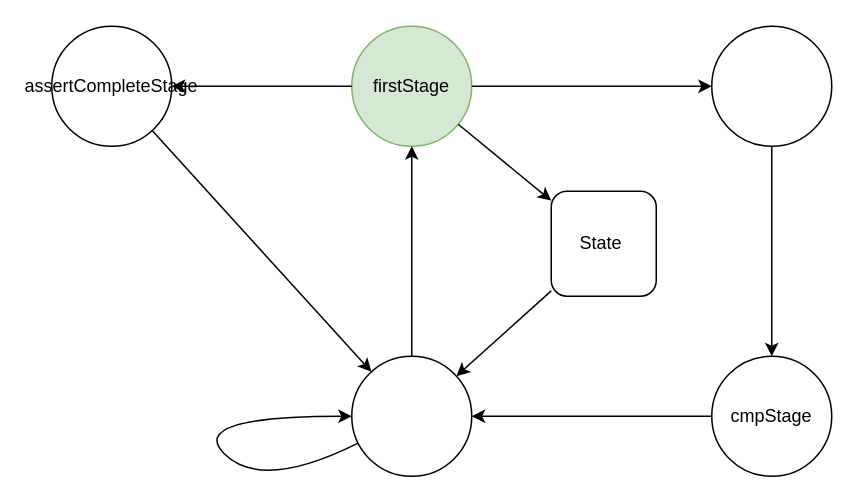
The diagram is 858 pixels wide and 503 high, and some of its shapes have lost their labels. The box of each missing label's shape, as (x1, y1, x2, y2) in pixels:
completeStage: (350, 355, 472, 476)
lfStage: (710, 25, 832, 146)
